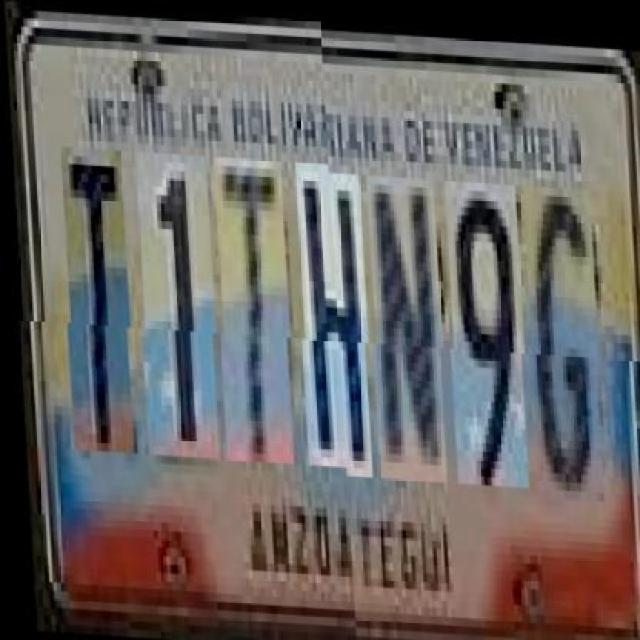1: (134, 158, 218, 465)
9: (442, 174, 527, 481)
g: (520, 178, 603, 494)
h: (293, 166, 372, 472)
n: (364, 170, 445, 478)
t: (212, 162, 292, 469), (59, 154, 133, 460)
